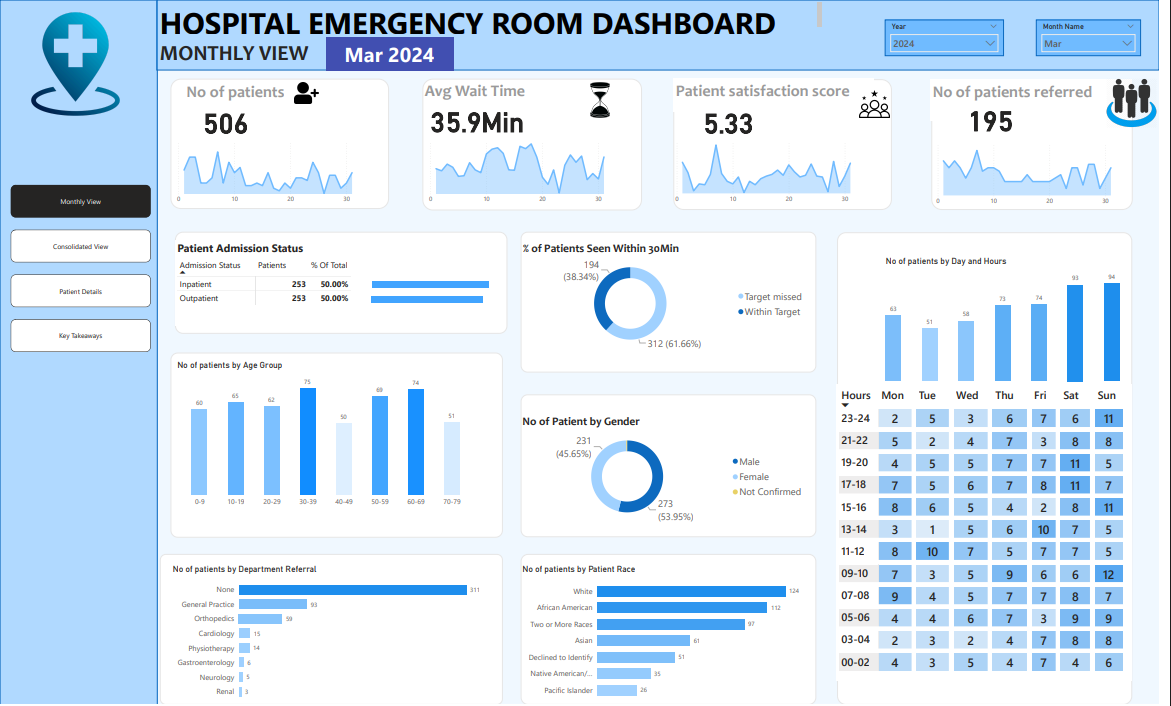

What the dashboard file says about the page in this screenshot:
{"tool":"powerbi","page":{"name":"Monthly View","canvas":[2300,1400],"ordinal":0},"visuals":[{"type":"shape","box":[0,0,312.1,1400],"z":0},{"type":"shape","box":[311.1,0,1988.9,138.9],"z":1000},{"type":"textbox","box":[312,0,1324,72],"z":2000},{"type":"textbox","box":[312.2,73.2,334.1,65.9],"z":3000},{"type":"shape","box":[338.5,156.4,433.3,259],"z":4000},{"type":"card","fields":{"Values":["Hospital ER_Data.No of patients"]},"box":[338.5,205.1,217.9,66.7],"z":5000},{"type":"textbox","box":[365,157.3,271.8,66.7],"z":6000},{"type":"shape","box":[838.5,156.4,435.9,261.5],"z":7000},{"type":"shape","box":[1336,156.5,434,260.9],"z":8000},{"type":"shape","box":[1847.8,156.5,400,260.9],"z":9000},{"type":"card","fields":{"Values":["Min(Date_Table.Month and Year)"]},"box":[646.2,74.4,253.8,66.7],"z":10000},{"type":"card","fields":{"Values":["Hospital ER_Data.Avg Wait Time"]},"box":[838.5,202.6,217.9,66.7],"z":11000},{"type":"textbox","box":[838.5,156.4,241,66.7],"z":12000},{"type":"textbox","box":[1335.9,156.4,397.4,66.7],"z":13000},{"type":"card","fields":{"Values":["Hospital ER_Data.Satisfaction score"]},"box":[1335.9,205.1,217.9,66.7],"z":14000},{"type":"textbox","box":[1846.4,157.1,400,82.1],"z":15000},{"type":"card","fields":{"Values":["Hospital ER_Data.No of patients referred"]},"box":[1846.4,200,239.3,67.9],"z":16000},{"type":"shape","box":[346.7,460,660,203.3],"z":17000},{"type":"areaChart","fields":{"Y":["Hospital ER_Data.No of patients referred"],"Category":["Date_Table.Date.Variation.Date Hierarchy.Day"]},"box":[1846.4,271.4,417.9,146.4],"z":18000},{"type":"pivotTable","title":"Patient Admission Status","fields":{"Rows":["Hospital ER_Data.Admission Status"],"Values":["Hospital ER_Data.No of patients1","Hospital ER_Data.No of patients"]},"box":[347.3,478.2,387.3,169.1],"z":19000},{"type":"barChart","fields":{"Category":["Hospital ER_Data.Admission Status"],"Y":["Hospital ER_Data.No of patients referred"]},"box":[732.7,530.9,241.8,92.7],"z":20000},{"type":"shape","box":[338.2,700,660,368],"z":21000},{"type":"shape","box":[316.7,1100,681.8,300],"z":22000},{"type":"clusteredBarChart","fields":{"Category":["Hospital ER_Data.Department Referral"],"Y":["Hospital ER_Data.No of patients"]},"box":[337.8,1118.9,621.6,281.1],"z":23000},{"type":"clusteredColumnChart","fields":{"Category":["Hospital ER_Data.Age Group"],"Y":["Hospital ER_Data.No of patients"]},"box":[347,715.2,600,300],"z":24000},{"type":"shape","box":[1033.3,460,586.7,280],"z":25000},{"type":"donutChart","title":"% of Patients Seen Within 30Min","fields":{"Category":["Hospital ER_Data.Waittime status"],"Y":["Hospital ER_Data.No of patients"]},"box":[1032.7,477.6,573.5,222.4],"z":26000},{"type":"shape","box":[1033.3,783.3,586.7,283.3],"z":27000},{"type":"donutChart","title":"No of Patient by Gender","fields":{"Category":["Hospital ER_Data.Patient Gender"],"Y":["Hospital ER_Data.No of patients"]},"box":[1032.4,821.6,573,221.6],"z":28000},{"type":"shape","box":[1033.3,1100,586.3,300],"z":29000},{"type":"clusteredBarChart","fields":{"Y":["Hospital ER_Data.No of patients"],"Category":["Hospital ER_Data.Patient Race"]},"box":[1032.4,1118.9,559.5,281.1],"z":30000},{"type":"shape","box":[1661.1,461.1,586.1,938.9],"z":31000},{"type":"pivotTable","fields":{"Rows":["Hospital ER_Data.Waittime Interval"],"Columns":["Date_Table.Day Name"],"Values":["Hospital ER_Data.No of patients"]},"box":[1660,762.9,585.7,588.6],"z":32000},{"type":"columnChart","title":"No of patients by Day and Hours","fields":{"Category":["Date_Table.Day Name"],"Y":["Hospital ER_Data.No of patients"]},"box":[1752.9,507.8,476.5,254.9],"z":33000},{"type":"image","box":[0,18.6,300,216.3],"z":34000},{"type":"areaChart","fields":{"Y":["Sum(Hospital ER_Data.Patient Satisfaction Score)"],"Category":["Date_Table.Date.Variation.Date Hierarchy.Day"]},"box":[1327.8,266.7,419.4,147.2],"z":35000},{"type":"areaChart","fields":{"Y":["Avg(Hospital ER_Data.Patient Waittime)"],"Category":["Date_Table.Date.Variation.Date Hierarchy.Day"]},"box":[838.9,266.7,419.4,147.2],"z":36000},{"type":"areaChart","fields":{"Y":["Hospital ER_Data.No of patients"],"Category":["Date_Table.Date.Variation.Date Hierarchy.Day"]},"box":[338.9,266.7,419.4,147.2],"z":37000},{"type":"slicer","fields":{"Values":["Date_Table.Year"]},"box":[1755.6,38.9,236.1,72.2],"z":38000},{"type":"slicer","fields":{"Values":["Date_Table.Month Name"]},"box":[2055.6,38.9,208.3,72.2],"z":39000},{"type":"pageNavigator","box":[21.2,366.7,278.8,333.3],"z":40000},{"type":"image","box":[578.8,157.6,57.6,54.5],"z":41000},{"type":"image","box":[1121.2,157.6,136.4,81.8],"z":42000},{"type":"image","box":[2190.9,142.4,109.1,124.2],"z":43000},{"type":"image","box":[1700,157.6,69.7,97],"z":44000}]}

Visuals, with their boxes in screenshot pixels (x1, y1, x2, y2), scaled from the page's 2300x1400 canvas onto the 1171x706 screenshot:
shape: bbox=[0, 0, 159, 705]
shape: bbox=[158, 0, 1170, 70]
textbox: bbox=[159, 0, 833, 36]
textbox: bbox=[159, 37, 329, 70]
shape: bbox=[172, 79, 393, 209]
card - Hospital ER_Data.No of patients: bbox=[172, 103, 283, 137]
textbox: bbox=[186, 79, 324, 113]
shape: bbox=[427, 79, 649, 211]
shape: bbox=[680, 79, 901, 210]
shape: bbox=[941, 79, 1144, 210]
card - Min(Date_Table.Month and Year): bbox=[329, 38, 458, 71]
card - Hospital ER_Data.Avg Wait Time: bbox=[427, 102, 538, 136]
textbox: bbox=[427, 79, 550, 113]
textbox: bbox=[680, 79, 882, 113]
card - Hospital ER_Data.Satisfaction score: bbox=[680, 103, 791, 137]
textbox: bbox=[940, 79, 1144, 121]
card - Hospital ER_Data.No of patients referred: bbox=[940, 101, 1062, 135]
shape: bbox=[177, 232, 513, 334]
areaChart - Hospital ER_Data.No of patients referred x Date_Table.Date.Variation.Date Hierarchy.Day: bbox=[940, 137, 1153, 211]
"Patient Admission Status" pivotTable: bbox=[177, 241, 374, 326]
barChart - Hospital ER_Data.Admission Status x Hospital ER_Data.No of patients referred: bbox=[373, 268, 496, 314]
shape: bbox=[172, 353, 508, 539]
shape: bbox=[161, 555, 508, 705]
clusteredBarChart - Hospital ER_Data.Department Referral x Hospital ER_Data.No of patients: bbox=[172, 564, 488, 705]
clusteredColumnChart - Hospital ER_Data.Age Group x Hospital ER_Data.No of patients: bbox=[177, 361, 482, 512]
shape: bbox=[526, 232, 825, 373]
"% of Patients Seen Within 30Min" donutChart: bbox=[526, 241, 818, 353]
shape: bbox=[526, 395, 825, 538]
"No of Patient by Gender" donutChart: bbox=[526, 414, 817, 526]
shape: bbox=[526, 555, 825, 705]
clusteredBarChart - Hospital ER_Data.No of patients x Hospital ER_Data.Patient Race: bbox=[526, 564, 810, 705]
shape: bbox=[846, 233, 1144, 705]
pivotTable - Hospital ER_Data.Waittime Interval x Date_Table.Day Name: bbox=[845, 385, 1143, 682]
"No of patients by Day and Hours" columnChart: bbox=[892, 256, 1135, 385]
image: bbox=[0, 9, 153, 118]
areaChart - Sum(Hospital ER_Data.Patient Satisfaction Score) x Date_Table.Date.Variation.Date Hierarchy.Day: bbox=[676, 134, 890, 209]
areaChart - Avg(Hospital ER_Data.Patient Waittime) x Date_Table.Date.Variation.Date Hierarchy.Day: bbox=[427, 134, 641, 209]
areaChart - Hospital ER_Data.No of patients x Date_Table.Date.Variation.Date Hierarchy.Day: bbox=[173, 134, 386, 209]
slicer - Date_Table.Year: bbox=[894, 20, 1014, 56]
slicer - Date_Table.Month Name: bbox=[1047, 20, 1153, 56]
pageNavigator: bbox=[11, 185, 153, 353]
image: bbox=[295, 79, 324, 107]
image: bbox=[571, 79, 640, 121]
image: bbox=[1115, 72, 1170, 134]
image: bbox=[866, 79, 901, 128]
